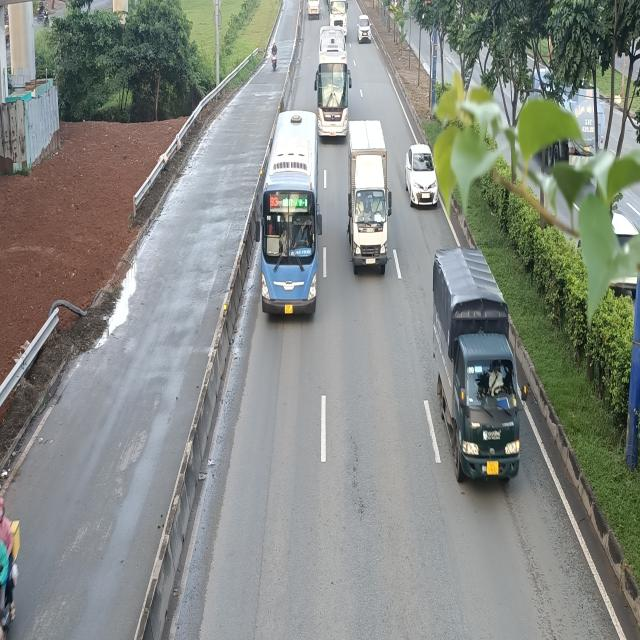car: (406, 144, 438, 209), (356, 15, 371, 44)
coach: (252, 115, 323, 322), (316, 25, 352, 137)
truck: (430, 252, 525, 494), (346, 120, 392, 274)
